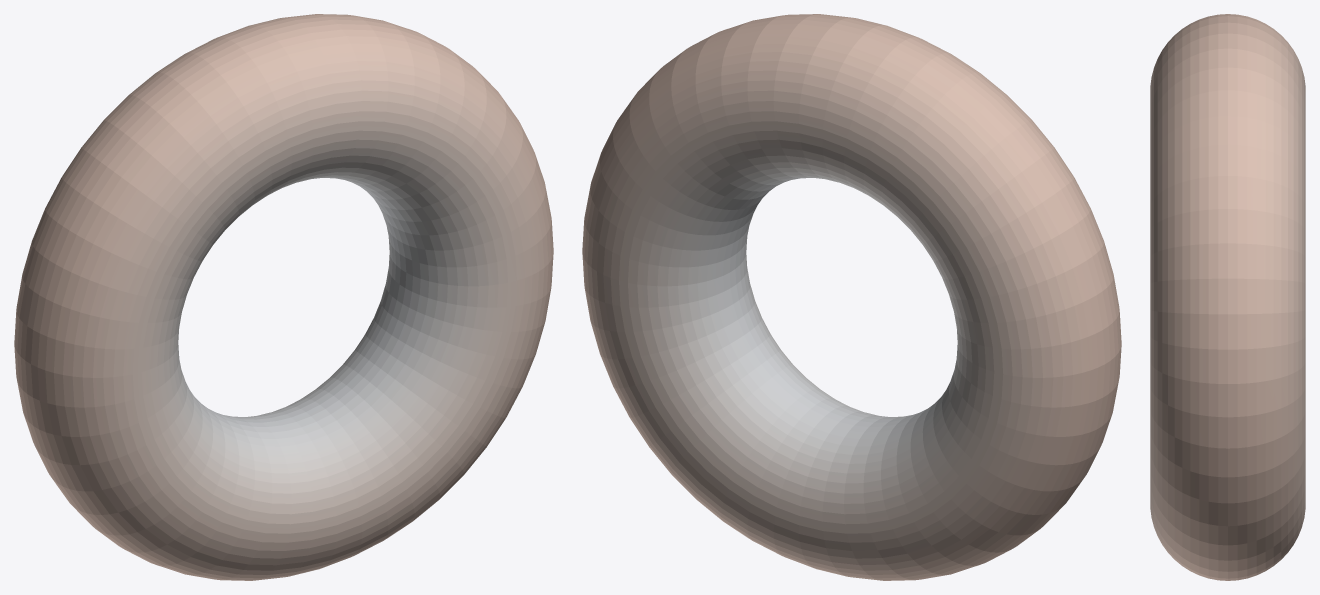
3 renders of one model, left to right at view 1: azimuth 30°, elevation 25°; view 2: azimuth 150°, elevation 25°; view 3: azimuth 270°, elevation 25°, orthographic. The views are drawn at different scales.
Parts seen in each view (by area): view 1: world; view 2: world; view 3: world.
Boxes of the visible parts, x1,y1,x2,y2 form: world: (14,14,553,580); world: (582,14,1121,580); world: (1150,14,1305,580).
Bounding box in the file's own units: 25.73 × 25.68 × 7.05.
